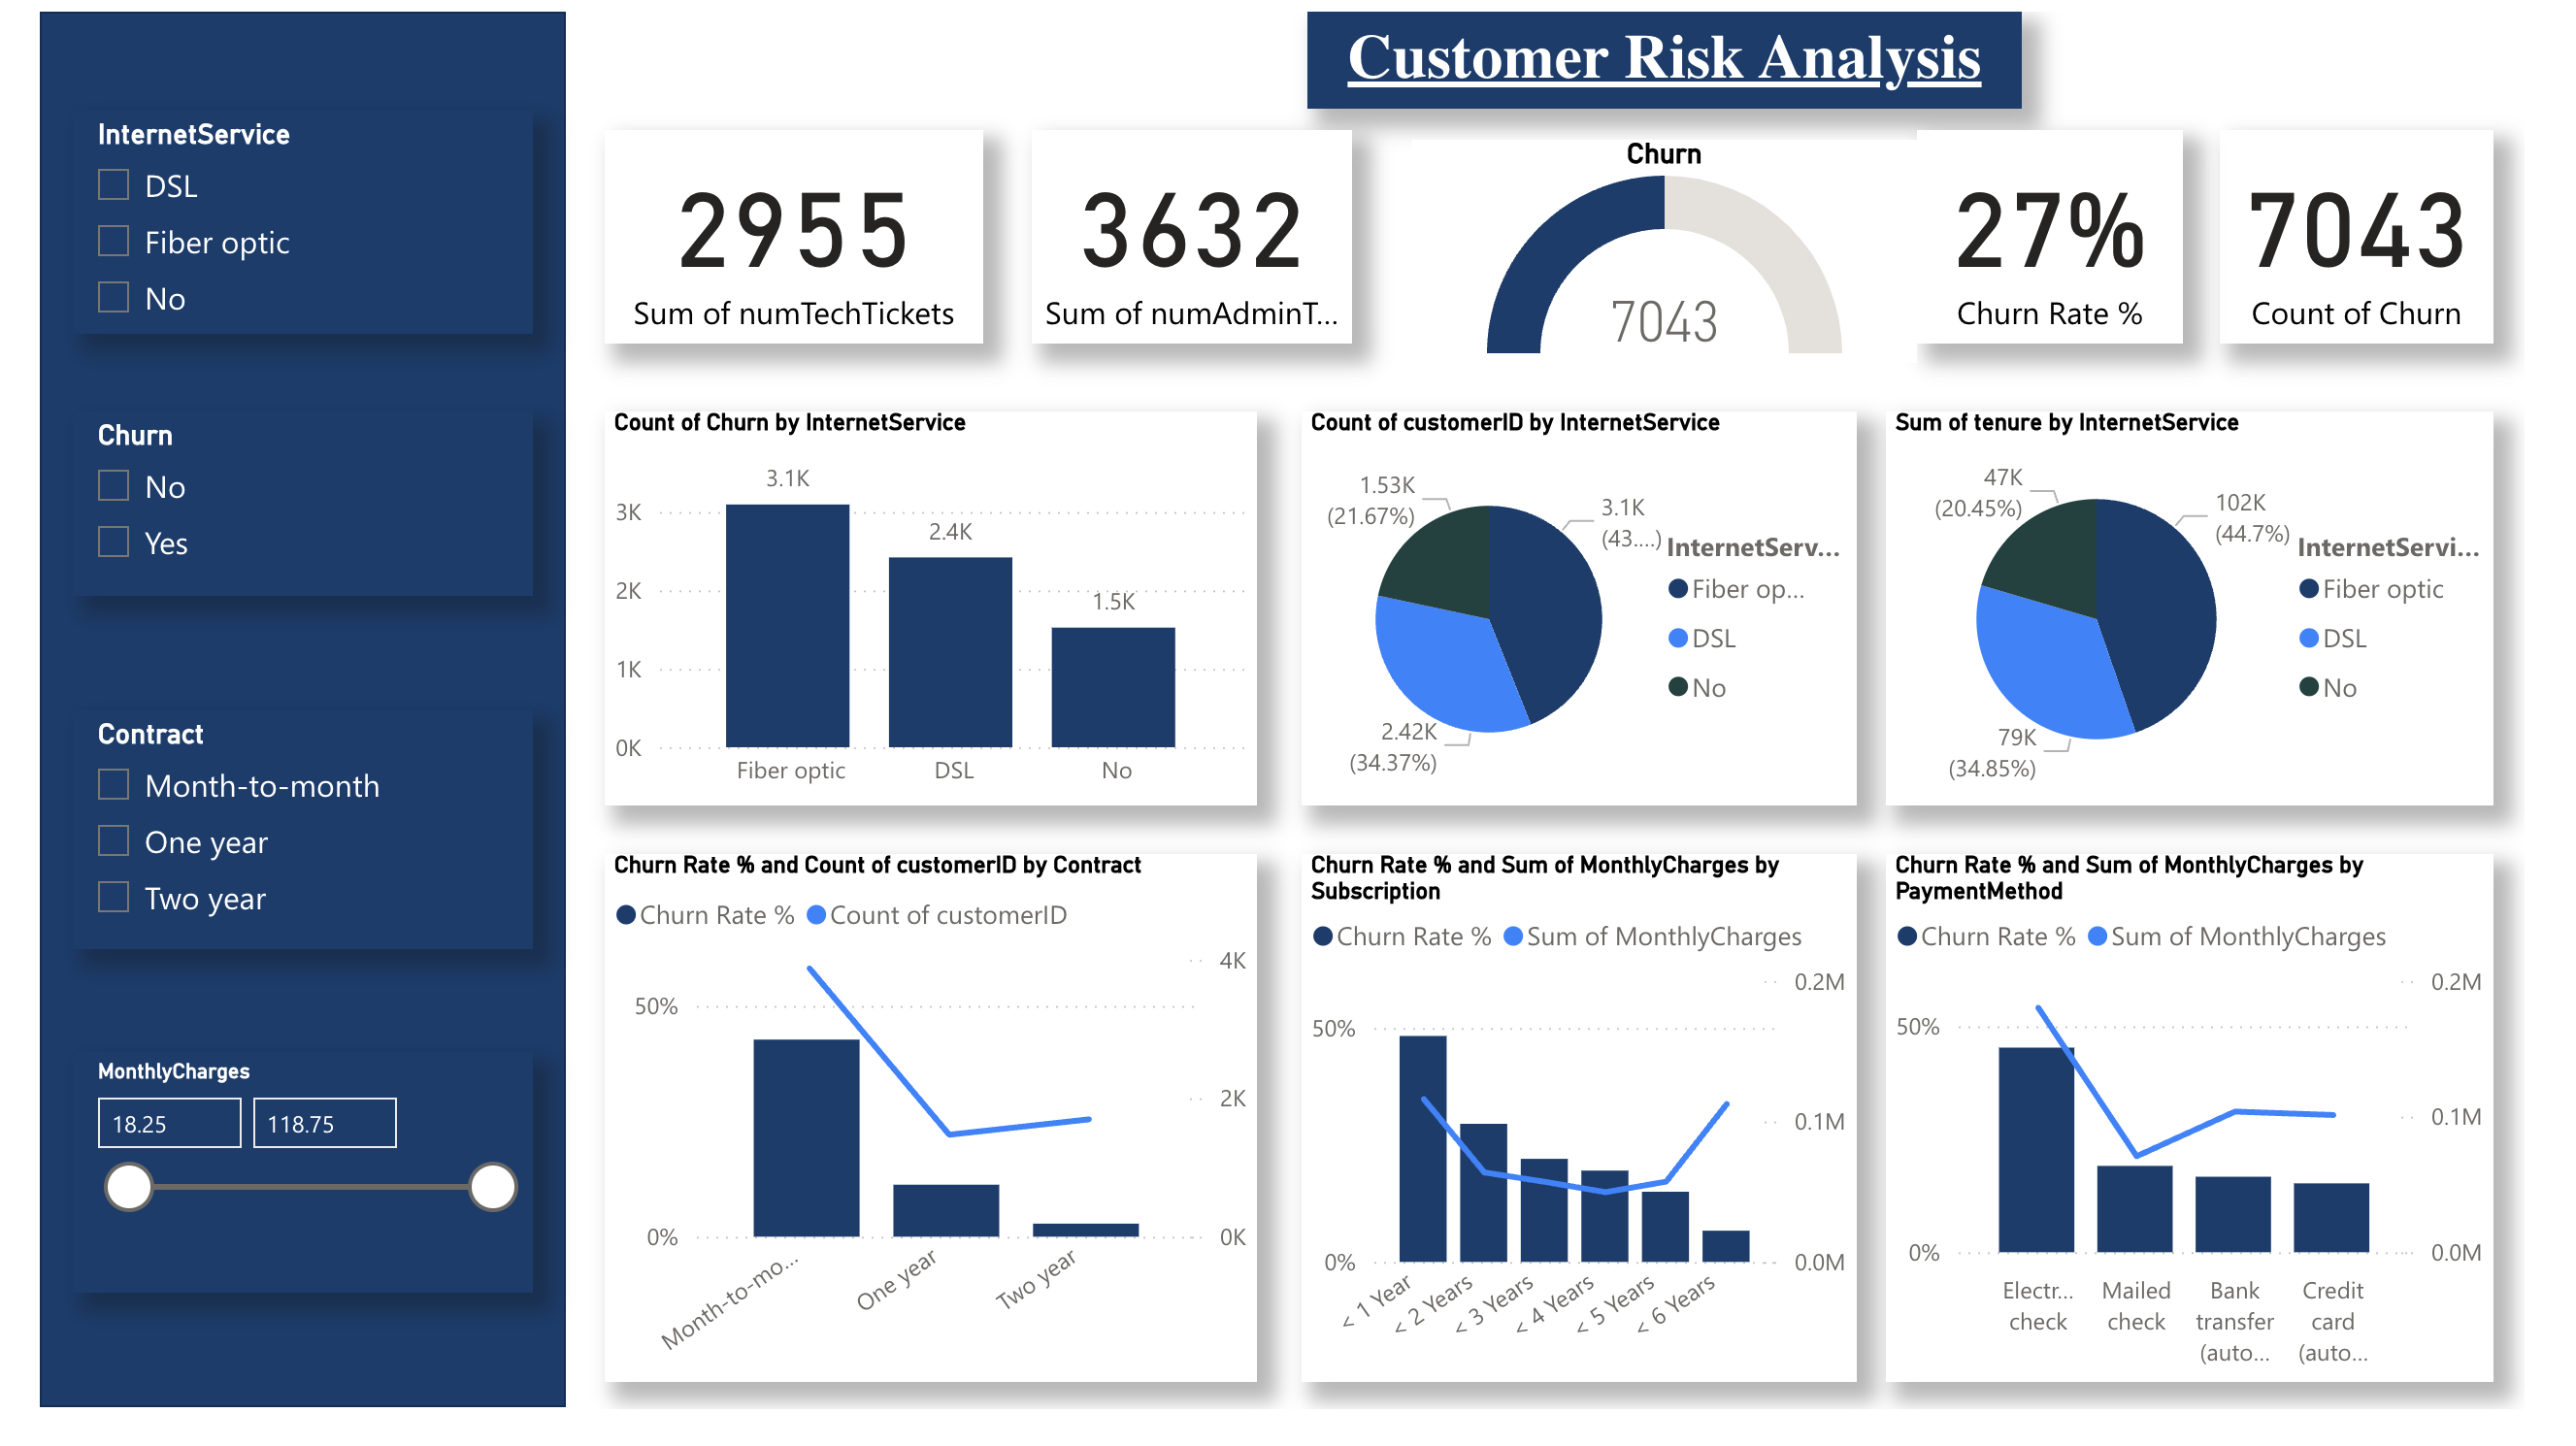

The page's visual inventory and layout, read from the dashboard file:
{"tool":"powerbi","page":{"name":"Customer Risk Analysis","canvas":[1280,720],"ordinal":2},"visuals":[{"type":"textbox","box":[652.9,0,368.6,50],"z":0},{"type":"card","fields":{"Values":["CountNonNull(01 Churn-Dataset.Churn)"]},"box":[1122.9,61.4,141.4,110],"z":1000},{"type":"card","fields":{"Values":["01 Churn-Dataset.Churn Rate %"]},"box":[967.1,61.4,137.1,110],"z":2000},{"type":"gauge","title":"Churn","fields":{"Y":["CountNonNull(01 Churn-Dataset.customerID)"]},"box":[707.1,65.7,260,115.7],"z":3000},{"type":"card","fields":{"Values":["Sum(01 Churn-Dataset.numAdminTickets)"]},"box":[511.4,61.4,164.3,110],"z":4000},{"type":"card","fields":{"Values":["Sum(01 Churn-Dataset.numTechTickets)"]},"box":[291.4,61.4,194.3,110],"z":5000},{"type":"shape","box":[0,0,271.4,718.6],"z":6000},{"type":"slicer","fields":{"Values":["01 Churn-Dataset.Churn"]},"box":[17.1,205.7,237.1,95.7],"z":7000},{"type":"slicer","fields":{"Values":["01 Churn-Dataset.InternetService"]},"box":[17.1,51.4,237.1,114.3],"z":8000},{"type":"slicer","fields":{"Values":["01 Churn-Dataset.MonthlyCharges"]},"box":[17.1,535.7,237.1,124.3],"z":9000},{"type":"slicer","fields":{"Values":["01 Churn-Dataset.Contract"]},"box":[17.1,360,237.1,122.9],"z":10000},{"type":"clusteredColumnChart","fields":{"Category":["01 Churn-Dataset.InternetService"],"Y":["CountNonNull(01 Churn-Dataset.Churn)"]},"box":[291.4,205.7,335.7,202.9],"z":11000},{"type":"pieChart","fields":{"Category":["01 Churn-Dataset.InternetService"],"Y":["CountNonNull(01 Churn-Dataset.customerID)"]},"box":[650,205.7,285.7,202.9],"z":12000},{"type":"pieChart","fields":{"Y":["Sum(01 Churn-Dataset.tenure)"],"Category":["01 Churn-Dataset.InternetService"]},"box":[951.4,205.7,312.9,202.9],"z":13000},{"type":"lineStackedColumnComboChart","fields":{"Y":["01 Churn-Dataset.Churn Rate %"],"Category":["01 Churn-Dataset.Contract"],"Y2":["CountNonNull(01 Churn-Dataset.customerID)"]},"box":[291.4,434.3,335.7,271.4],"z":14000},{"type":"lineStackedColumnComboChart","fields":{"Category":["01 Churn-Dataset.Subscription"],"Y":["01 Churn-Dataset.Churn Rate %"],"Y2":["Sum(01 Churn-Dataset.MonthlyCharges)"]},"box":[650,434.3,285.7,271.4],"z":15000},{"type":"lineStackedColumnComboChart","fields":{"Category":["01 Churn-Dataset.PaymentMethod"],"Y":["01 Churn-Dataset.Churn Rate %"],"Y2":["Sum(01 Churn-Dataset.MonthlyCharges)"]},"box":[951.4,434.3,312.9,271.4],"z":16000}]}

Visuals, with their boxes in screenshot pixels (x1, y1, x2, y2), scaled from the page's 1280x720 canvas onto the 2576x1446 screenshot:
textbox: locate(1314, 0, 2056, 100)
card - CountNonNull(01 Churn-Dataset.Churn): locate(2260, 123, 2544, 345)
card - 01 Churn-Dataset.Churn Rate %: locate(1946, 123, 2222, 345)
"Churn" gauge: locate(1423, 132, 1946, 364)
card - Sum(01 Churn-Dataset.numAdminTickets): locate(1029, 123, 1360, 345)
card - Sum(01 Churn-Dataset.numTechTickets): locate(586, 123, 977, 345)
shape: locate(0, 0, 546, 1443)
slicer - 01 Churn-Dataset.Churn: locate(34, 413, 512, 606)
slicer - 01 Churn-Dataset.InternetService: locate(34, 103, 512, 333)
slicer - 01 Churn-Dataset.MonthlyCharges: locate(34, 1076, 512, 1326)
slicer - 01 Churn-Dataset.Contract: locate(34, 723, 512, 969)
clusteredColumnChart - 01 Churn-Dataset.InternetService x CountNonNull(01 Churn-Dataset.Churn): locate(586, 413, 1262, 821)
pieChart - 01 Churn-Dataset.InternetService x CountNonNull(01 Churn-Dataset.customerID): locate(1308, 413, 1883, 821)
pieChart - Sum(01 Churn-Dataset.tenure) x 01 Churn-Dataset.InternetService: locate(1915, 413, 2544, 821)
lineStackedColumnComboChart - 01 Churn-Dataset.Churn Rate % x 01 Churn-Dataset.Contract: locate(586, 872, 1262, 1417)
lineStackedColumnComboChart - 01 Churn-Dataset.Subscription x 01 Churn-Dataset.Churn Rate %: locate(1308, 872, 1883, 1417)
lineStackedColumnComboChart - 01 Churn-Dataset.PaymentMethod x 01 Churn-Dataset.Churn Rate %: locate(1915, 872, 2544, 1417)
